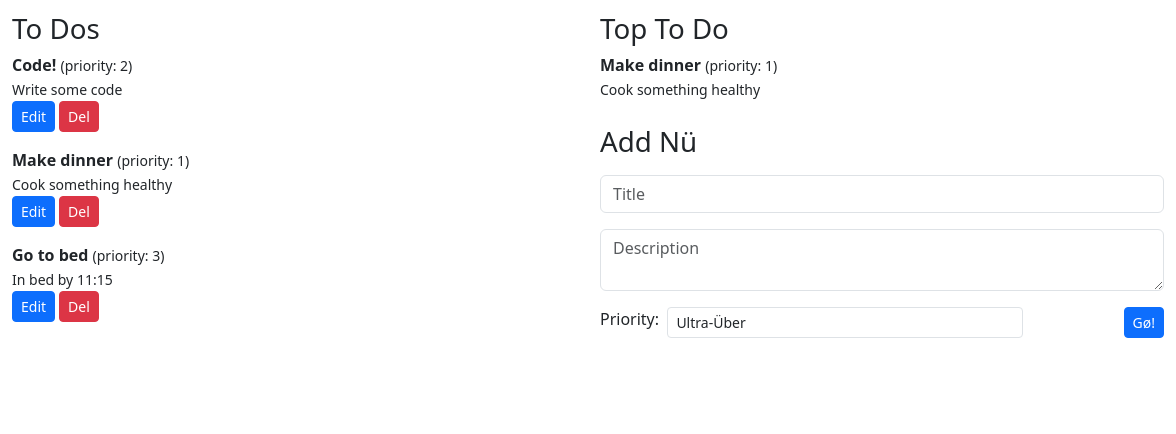
it: creating a new todo
Type "get ice cream" into the field with placeholder "Title" at x=882, y=194, box 600,174 -> 1164,212
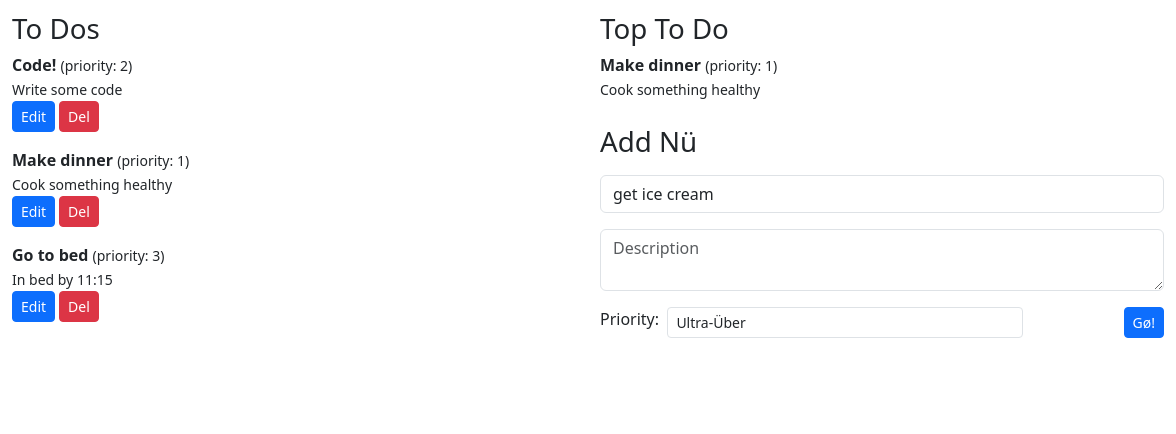
Type "nom nom nom" into the text box with placeholder "Description" at x=882, y=260, box 600,228 -> 1164,290
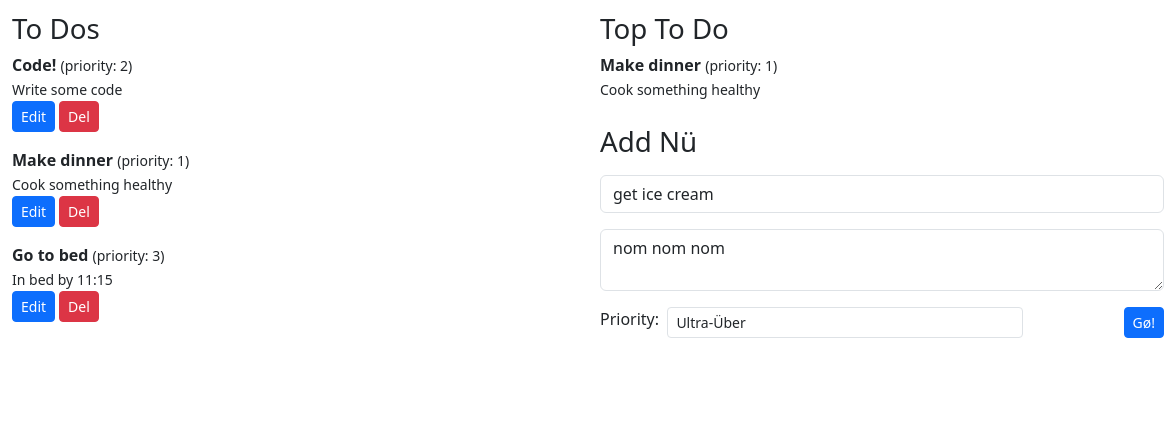
Select "Über" in the dropdown labelled "Priority:" at x=845, y=322, box 667,306 -> 1023,338
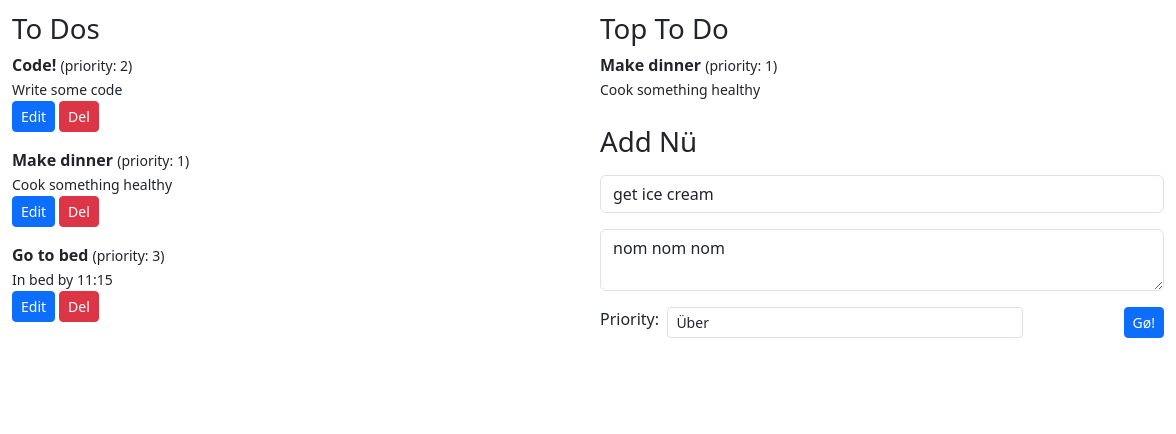
Submit the form from the button with class "NewTodoForm-addBtn", box 1124,306 -> 1164,338
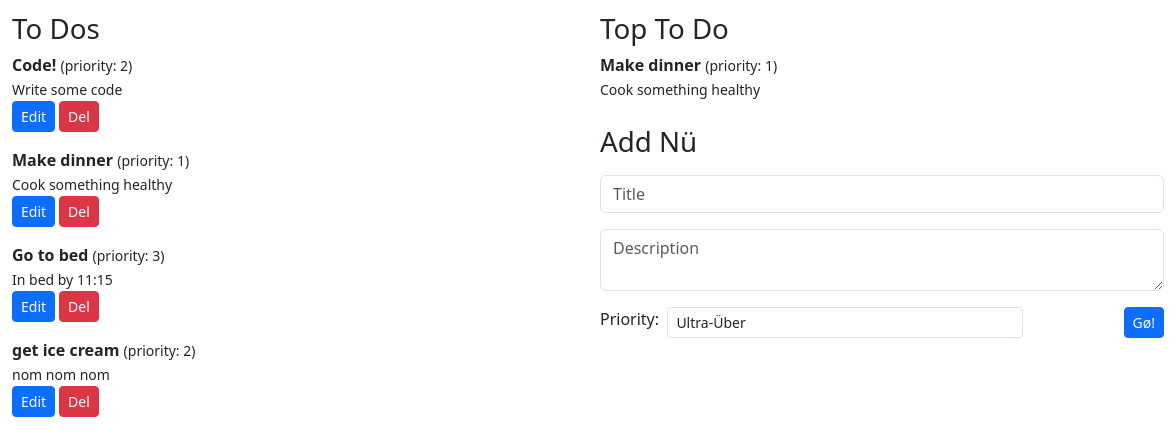
Expected: the number of buttons is 9
Expected: the text "get ice cream" is shown, 12,339 -> 119,361
Expected: the text "nom nom nom" is shown, 12,365 -> 110,384
